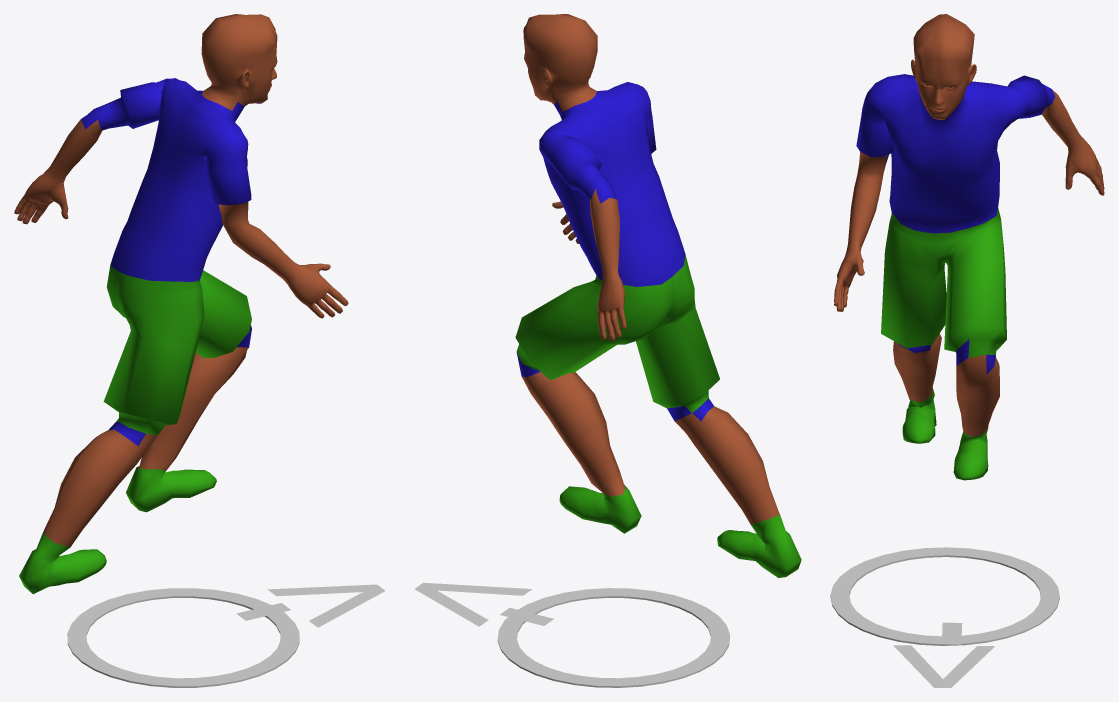
The model's file is playerAI_000006.obj.
The picture shows the model from 3 angles, left to right: view 1: azimuth 30°, elevation 25°; view 2: azimuth 150°, elevation 25°; view 3: azimuth 270°, elevation 25°; orthographic projection.
Parts seen in each view (by area): view 1: soccerplayer.003_mesh.002, Circle.001, Text_Mesh; view 2: soccerplayer.003_mesh.002, Circle.001, Text_Mesh; view 3: soccerplayer.003_mesh.002, Circle.001, Text_Mesh.
Part boxes in pixels (<box>): soccerplayer.003_mesh.002: <box>14,14,348,594</box>; Circle.001: <box>67,588,299,687</box>; Text_Mesh: <box>236,584,384,627</box>; soccerplayer.003_mesh.002: <box>515,14,801,578</box>; Circle.001: <box>497,588,729,687</box>; Text_Mesh: <box>414,582,553,626</box>; soccerplayer.003_mesh.002: <box>834,14,1104,480</box>; Circle.001: <box>830,547,1059,645</box>; Text_Mesh: <box>893,622,994,687</box>.
Size of the model in its own units: 1.99 by 3.14 by 1.3.
